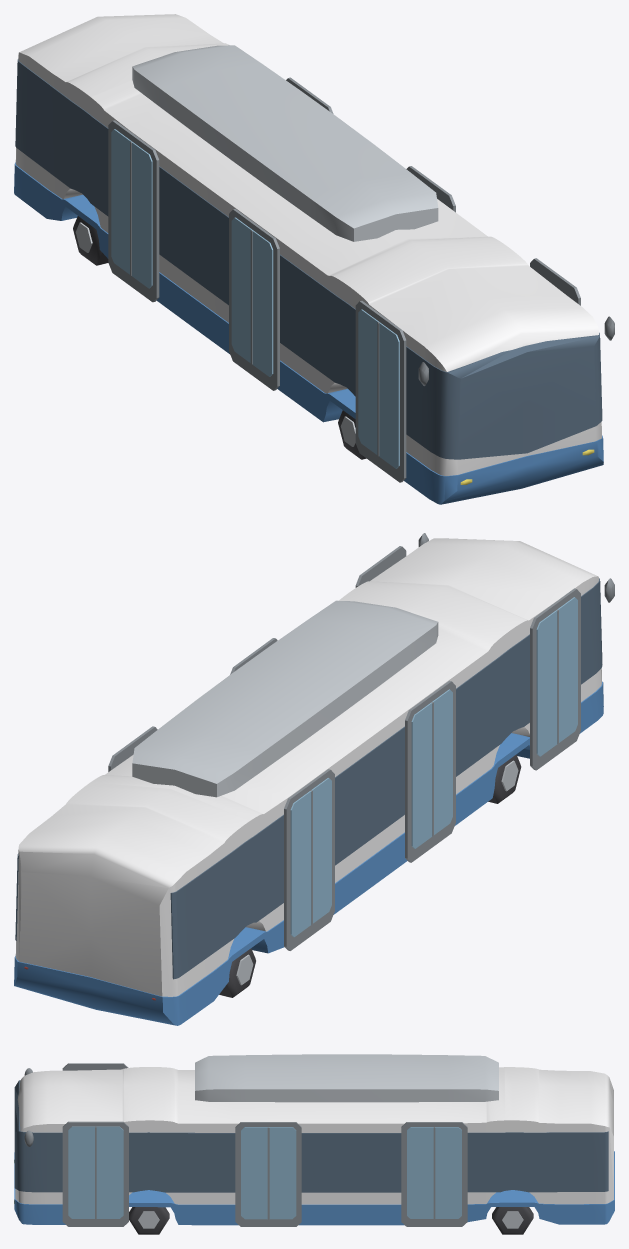
The model's file is bus.glb.
3 views of the same model, one above another, from view 1: azimuth 30°, elevation 25°; view 2: azimuth 150°, elevation 25°; view 3: azimuth 270°, elevation 25° (orthographic). The views are drawn at different scales.
Parts seen in each view (by area): view 1: carrosserie, roues; view 2: carrosserie, roues; view 3: carrosserie, roues.
Boxes of the visible parts, x1=… form: carrosserie: x1=14, y1=14, x2=614, y2=504; roues: x1=73, y1=216, x2=366, y2=459; carrosserie: x1=14, y1=533, x2=614, y2=1025; roues: x1=219, y1=754, x2=521, y2=997; carrosserie: x1=14, y1=1054, x2=614, y2=1226; roues: x1=129, y1=1207, x2=533, y2=1234.
Bounding box in the file's own units: 3.34 × 3.39 × 13.05.
